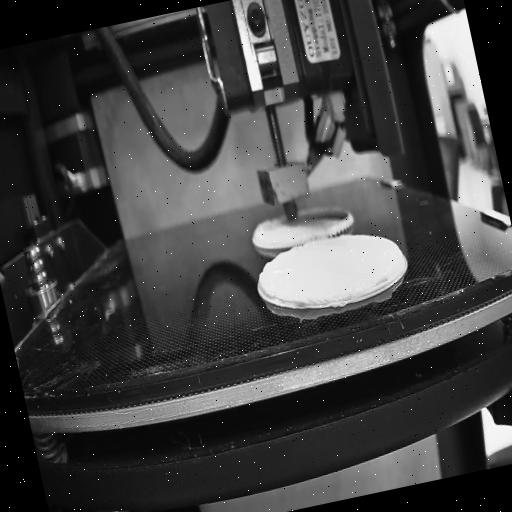over_extrusion: (254, 268, 274, 306)
